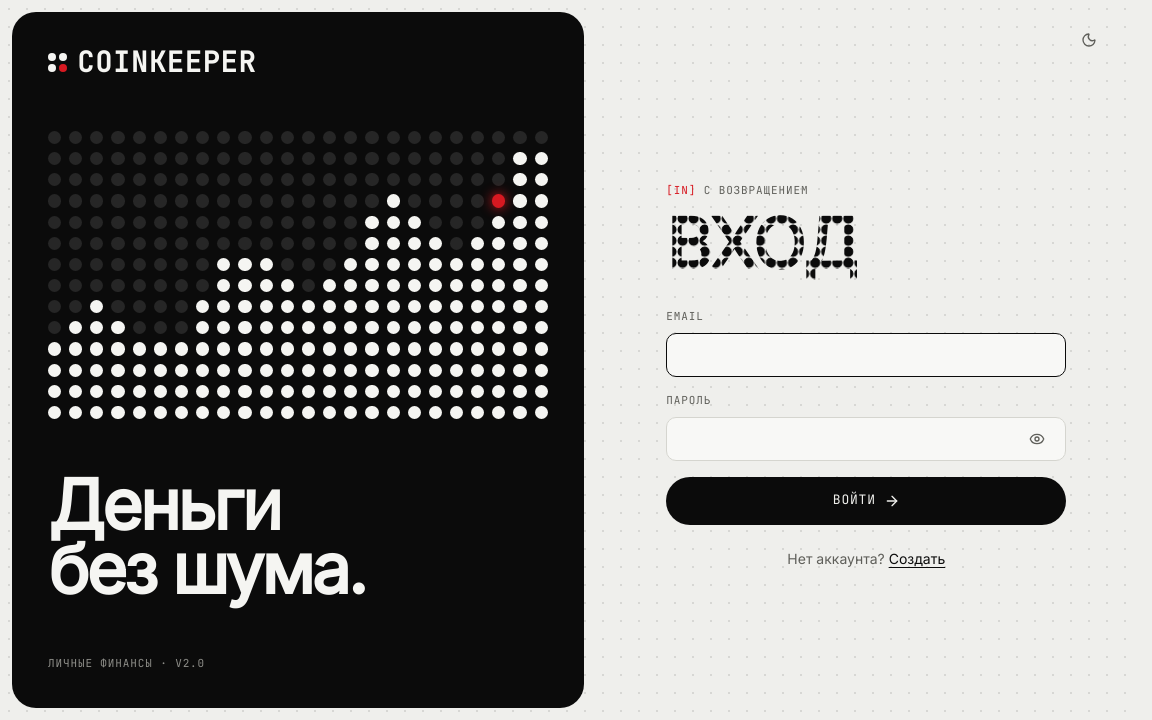
Scenario: App › redirects to login, signs in, and shows the dashboard
Expected: the heading "Вход" is shown, [666,213,1066,275]
Step 1. Type "a@b.co" into the field labelled "Email" → coordinates (866, 355), box [681,334,1051,376]
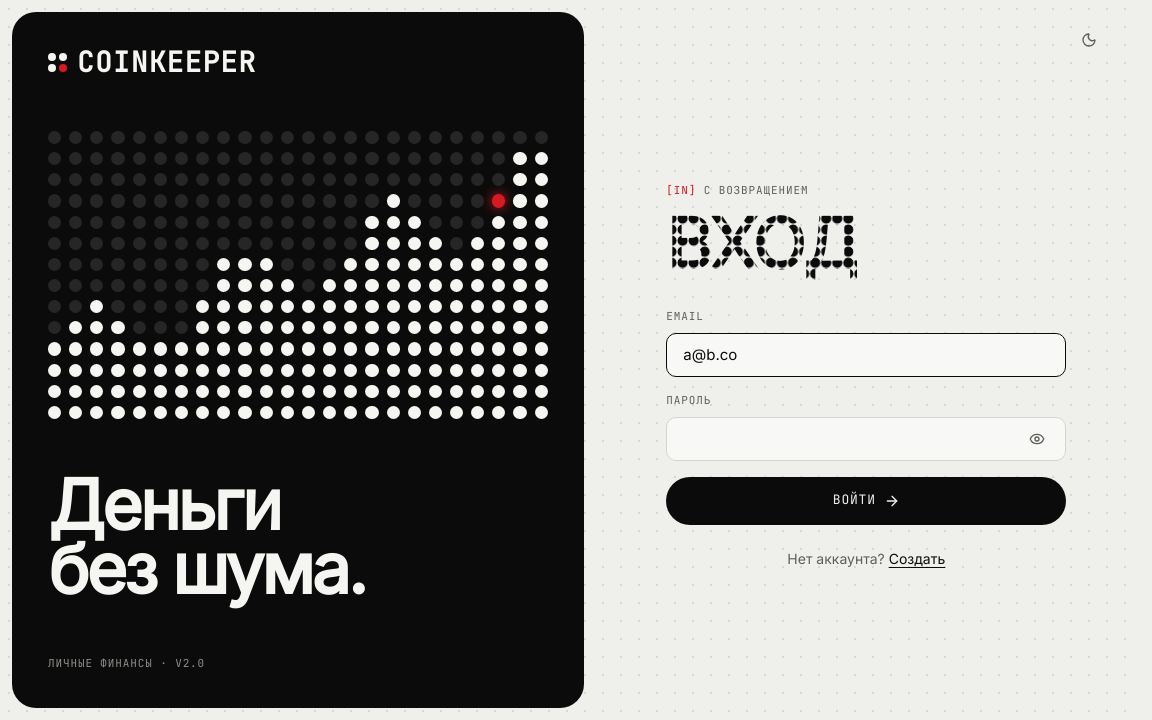
Step 2. Type "wrong" into the password field labelled "Пароль" → coordinates (848, 439), box [681,418,1015,460]
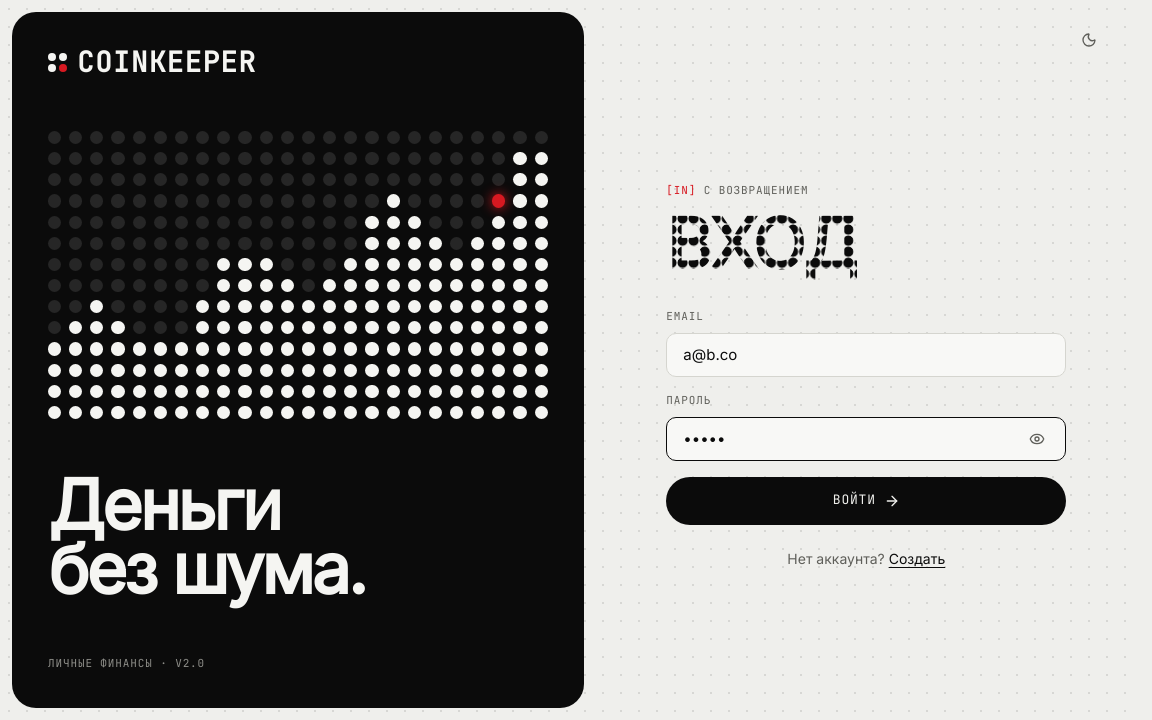
Step 3. Click the button "Войти" → coordinates (866, 501), box [666,477,1066,525]
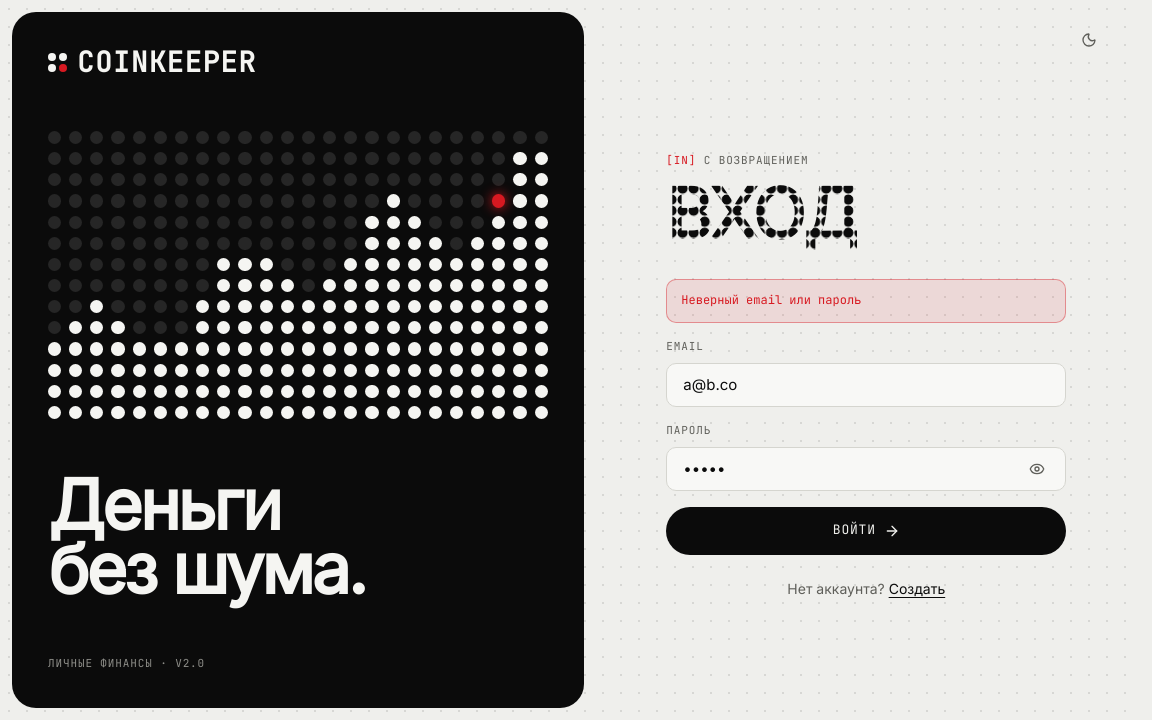
Expected: the message reads "Неверный email или пароль", [681,292,861,308]
Step 4. Type "secret123" into the password field labelled "Пароль" → coordinates (848, 468), box [681,448,1015,490]
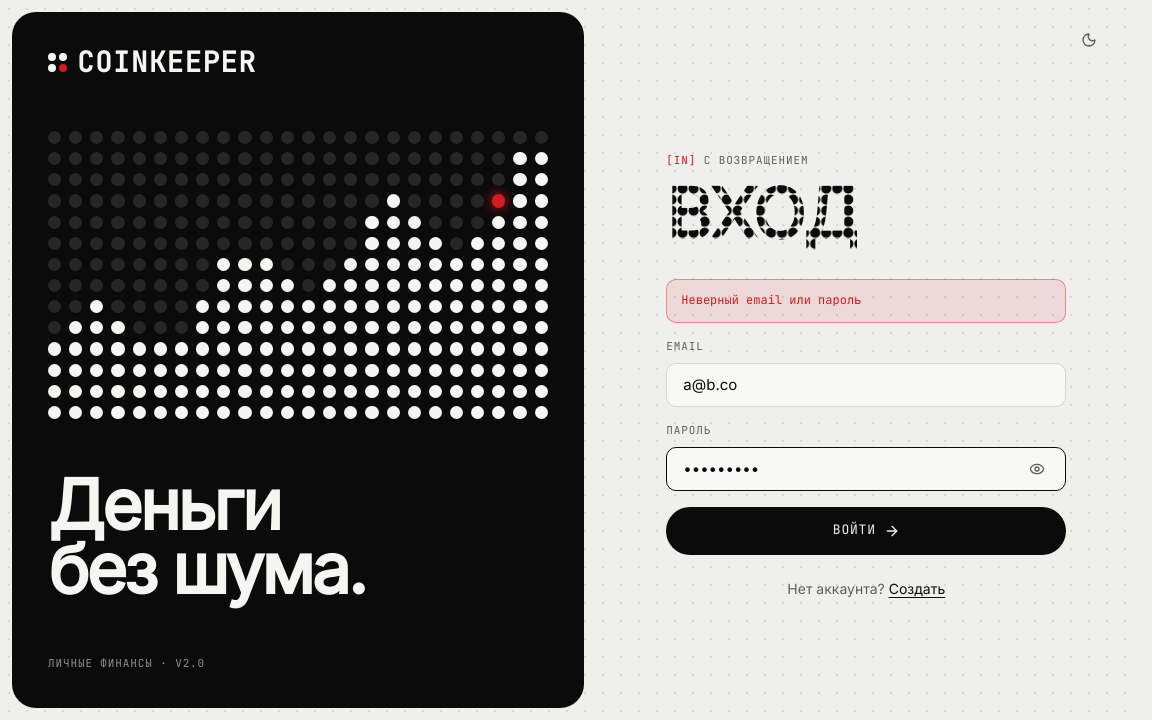
Step 5. Click the button "Войти" → coordinates (866, 530), box [666,506,1066,554]
(page scrolled)
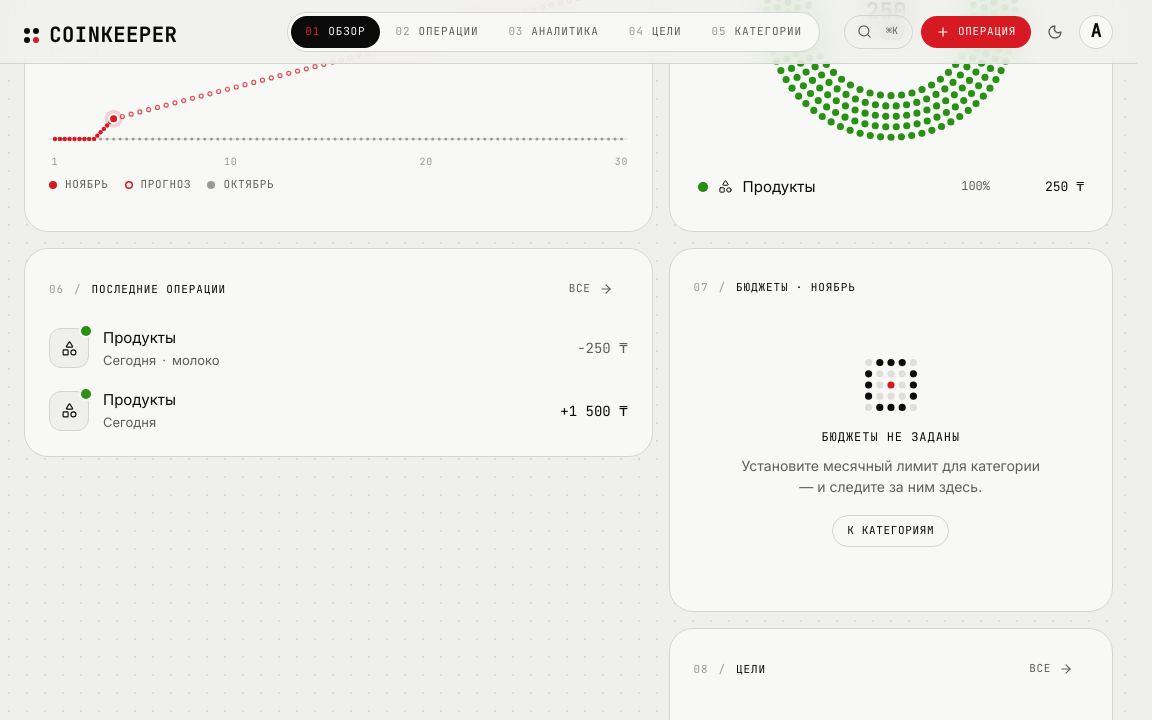
Expected: the text "молоко" is shown, [172,351,220,369]
